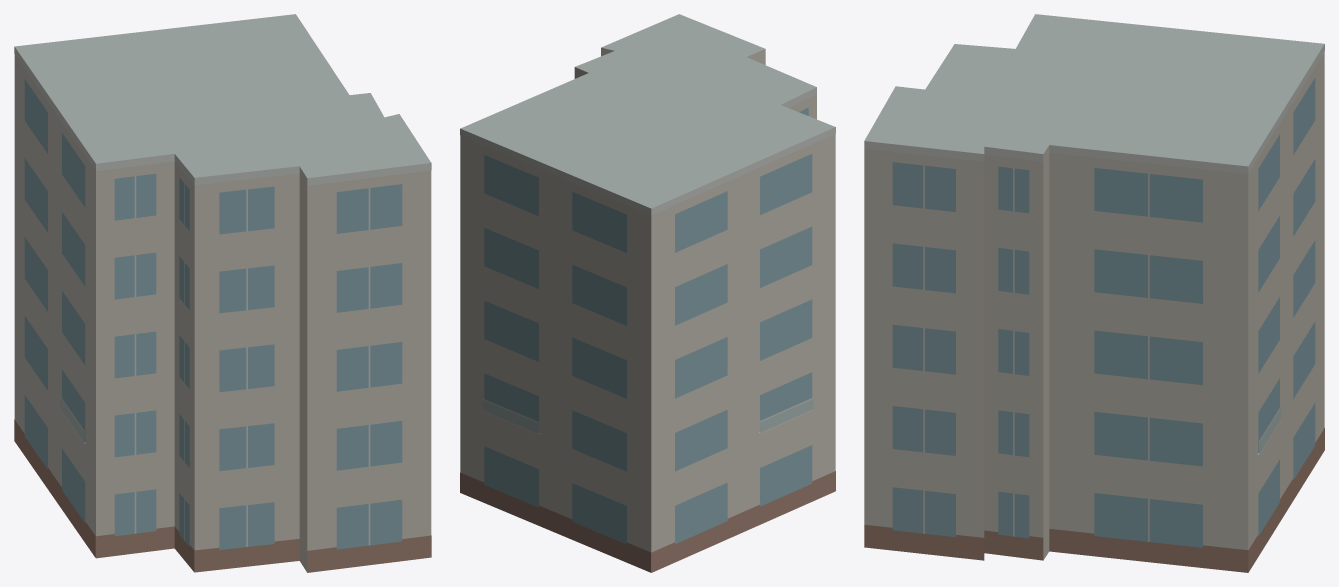
The model's file is survey-upis-32767457.glb.
3 views of the same model, side by side, from view 1: azimuth 30°, elevation 25°; view 2: azimuth 150°, elevation 25°; view 3: azimuth 270°, elevation 25° (orthographic). The views are drawn at different scales.
Parts seen in each view (by area): view 1: survey-upis-32767457.tmp; view 2: survey-upis-32767457.tmp; view 3: survey-upis-32767457.tmp.
Part boxes in pixels (<box>): survey-upis-32767457.tmp: <box>14,14,431,572</box>; survey-upis-32767457.tmp: <box>460,14,835,572</box>; survey-upis-32767457.tmp: <box>864,14,1324,572</box>.
Bounding box in the file's own units: 10.47 × 13 × 13.36.
